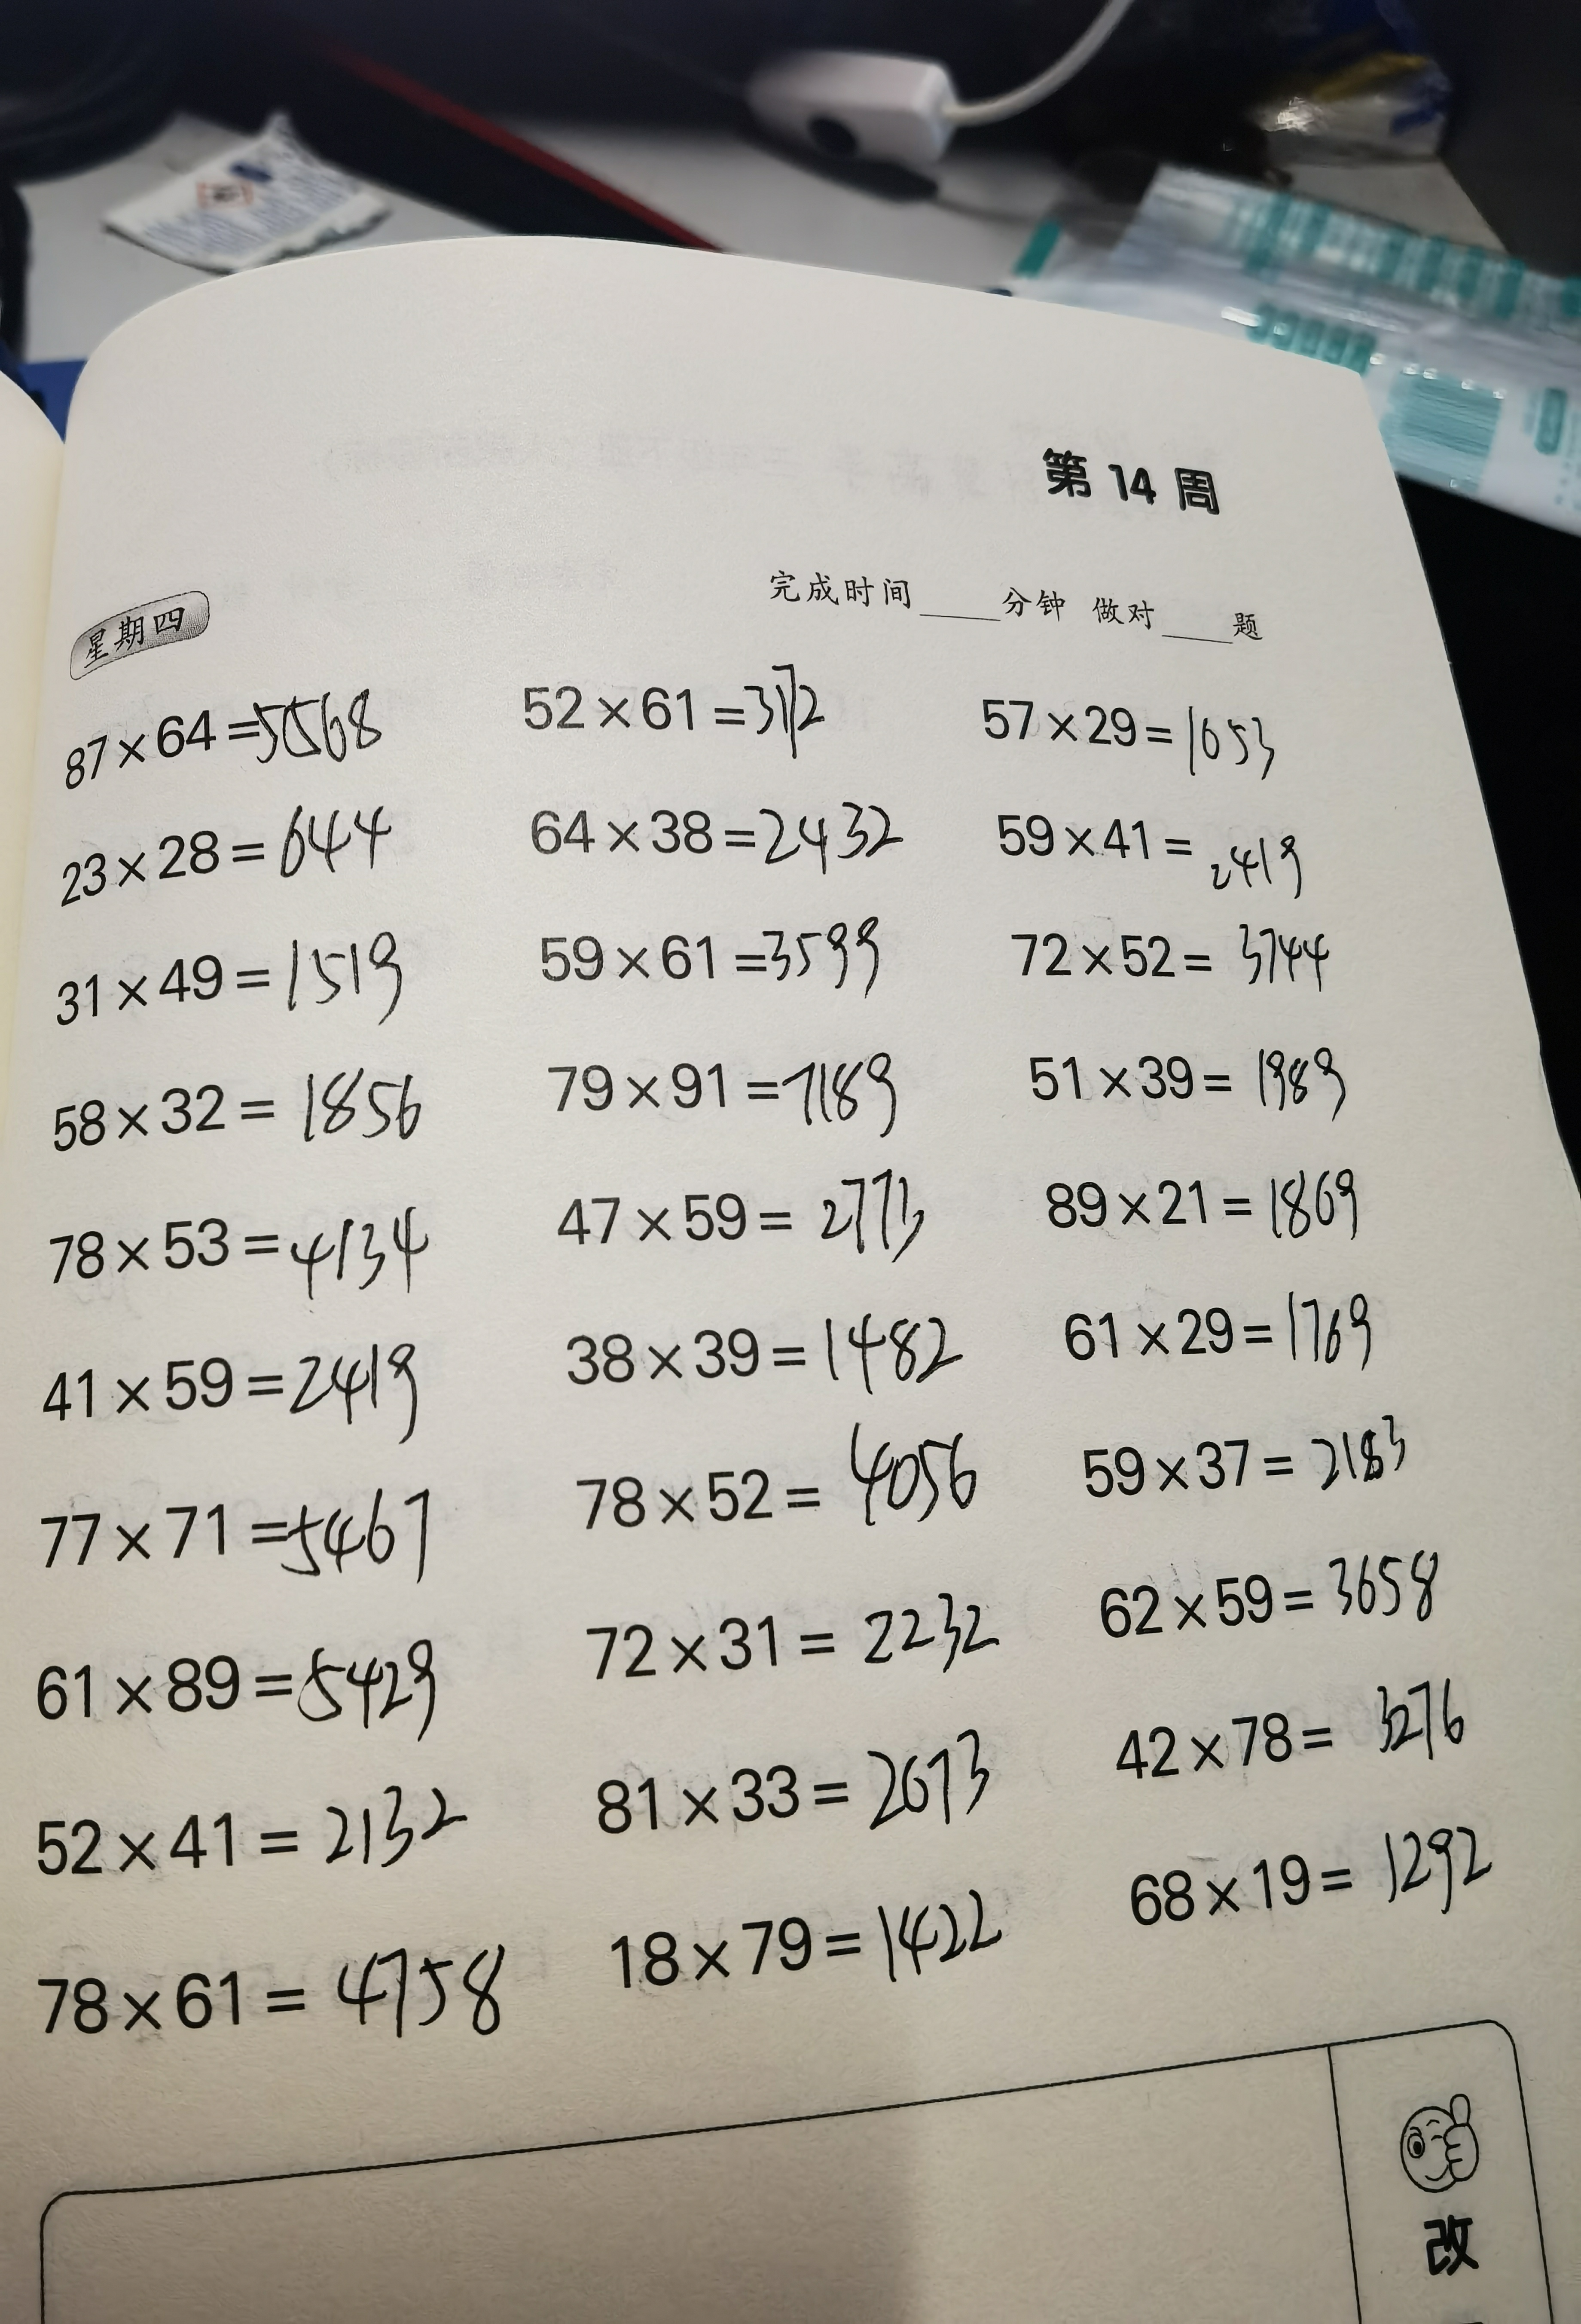equation: (16, 1927, 522, 2080), (558, 1851, 1039, 1998), (1085, 1814, 1551, 1946), (9, 1777, 491, 1897), (529, 1422, 992, 1539), (588, 1715, 988, 1849), (521, 1163, 967, 1276), (32, 1632, 485, 1742), (21, 1172, 452, 1286), (21, 1318, 439, 1435), (11, 1486, 461, 1593), (563, 1588, 1020, 1694), (974, 780, 1325, 909), (990, 1029, 1392, 1138), (1073, 1523, 1463, 1634), (1023, 1145, 1383, 1265), (519, 1029, 916, 1136), (963, 662, 1322, 778), (496, 791, 935, 884), (549, 1295, 993, 1385), (1053, 1401, 1442, 1503), (1083, 1675, 1484, 1772), (30, 937, 436, 1032), (505, 912, 925, 1004), (970, 916, 1357, 1015), (16, 1059, 438, 1149), (34, 692, 423, 787), (494, 660, 868, 748), (48, 812, 439, 888), (1060, 1295, 1403, 1371)
